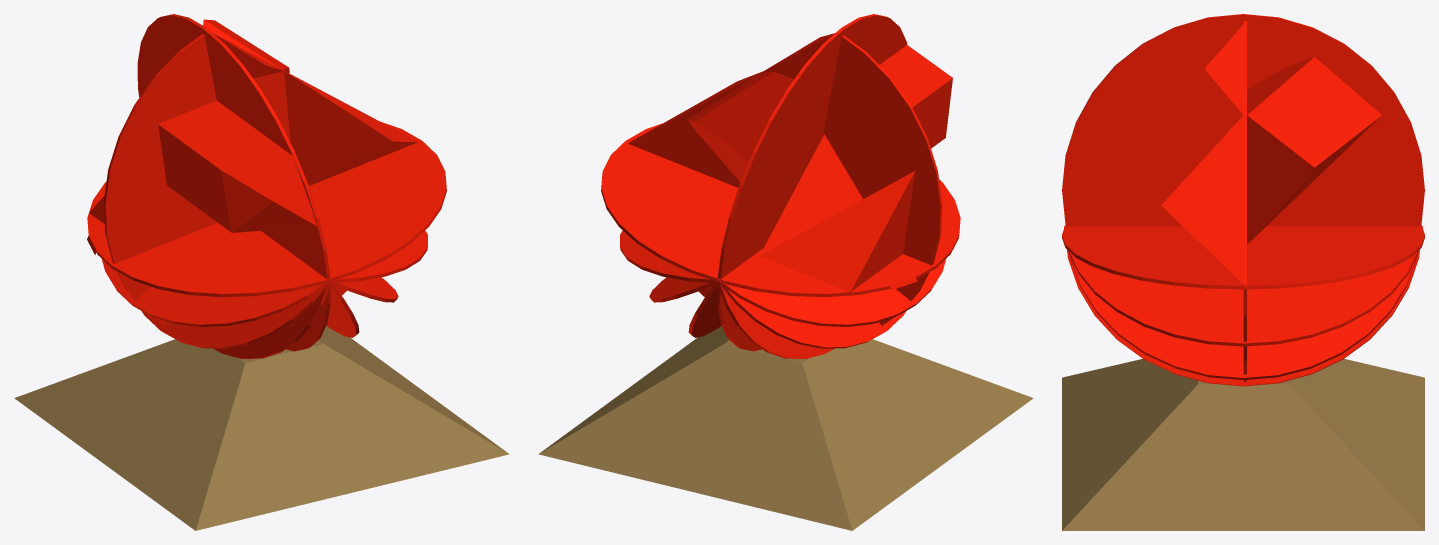
The model's file is Pokebola.fbx.
3 views of the same model, side by side, from view 1: azimuth 30°, elevation 25°; view 2: azimuth 150°, elevation 25°; view 3: azimuth 270°, elevation 25° (orthographic).
Parts seen in each view (by area): view 1: Circle, Circle.001, Circle.003, Circle.002, Circle.007, Circle.006, Circle.005, Circle.010, Circle.008, Circle.009; view 2: Circle, Circle.003, Circle.001, Circle.002, Circle.007, Circle.006, Circle.005, Circle.010, Circle.008, Circle.009; view 3: Circle, Circle.002, Circle.001, Circle.003, Circle.010, Circle.009, Circle.008.
Part boxes in pixels (x1=…): Circle: x1=14, y1=326, x2=509, y2=530; Circle.001: x1=103, y1=19, x2=417, y2=324; Circle.003: x1=87, y1=122, x2=446, y2=297; Circle.002: x1=137, y1=14, x2=330, y2=351; Circle.007: x1=102, y1=259, x2=330, y2=326; Circle.006: x1=141, y1=286, x2=325, y2=348; Circle.005: x1=214, y1=281, x2=331, y2=358; Circle.010: x1=332, y1=230, x2=427, y2=283; Circle.008: x1=326, y1=280, x2=359, y2=337; Circle.009: x1=333, y1=277, x2=398, y2=302; Circle: x1=538, y1=326, x2=1033, y2=530; Circle.003: x1=601, y1=123, x2=960, y2=297; Circle.001: x1=628, y1=33, x2=952, y2=325; Circle.002: x1=717, y1=14, x2=907, y2=351; Circle.007: x1=717, y1=259, x2=945, y2=326; Circle.006: x1=722, y1=286, x2=906, y2=348; Circle.005: x1=716, y1=281, x2=833, y2=358; Circle.010: x1=620, y1=230, x2=715, y2=283; Circle.008: x1=688, y1=280, x2=721, y2=337; Circle.009: x1=649, y1=277, x2=714, y2=302; Circle: x1=1062, y1=359, x2=1424, y2=530; Circle.002: x1=1062, y1=14, x2=1424, y2=226; Circle.001: x1=1161, y1=21, x2=1381, y2=382; Circle.003: x1=1062, y1=225, x2=1424, y2=289; Circle.010: x1=1068, y1=251, x2=1418, y2=346; Circle.009: x1=1070, y1=256, x2=1416, y2=379; Circle.008: x1=1067, y1=250, x2=1419, y2=386.
Bounding box in the file's own units: 405 × 501 × 400.
